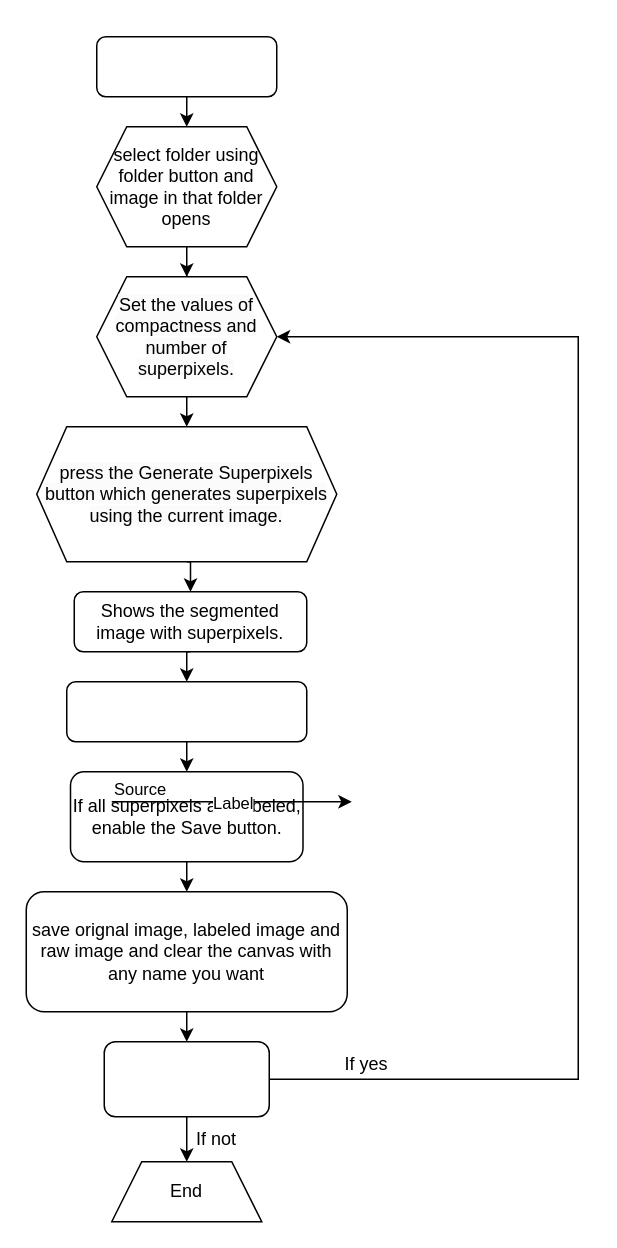
Image size: 617x1248. Some labels were removed from this diagram. Here are the shapes that lost their labels. From the top down, the centre of each, then its label:
At point (186, 66): "Start".
At point (186, 711): "User Selects Label and then annotate the superpixels".
At point (186, 1078): "Load the next image".
